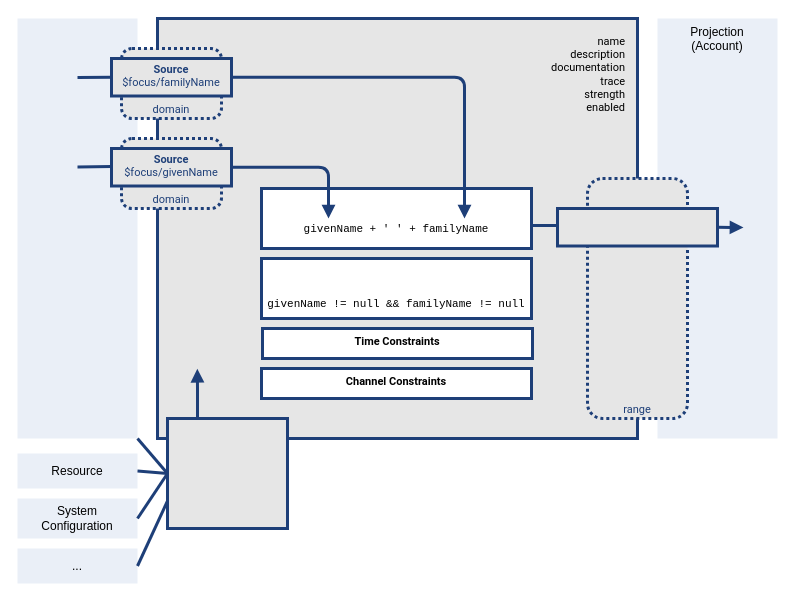
Image size: 794x601. Some labels were removed from this diagram. Here are the shapes that lost their labels. From the top down, the box of each, then its label:
(17, 18, 137, 438): Focus (User)
(260, 186, 532, 250): Expression script (Groovy)
(156, 16, 638, 440): Mapping
(556, 206, 718, 247): Target $projection/attributes/cn
(260, 256, 532, 320): Condition script (Groovy)
(166, 416, 288, 530): Variables $focus $resource $configuration $assignment ...
